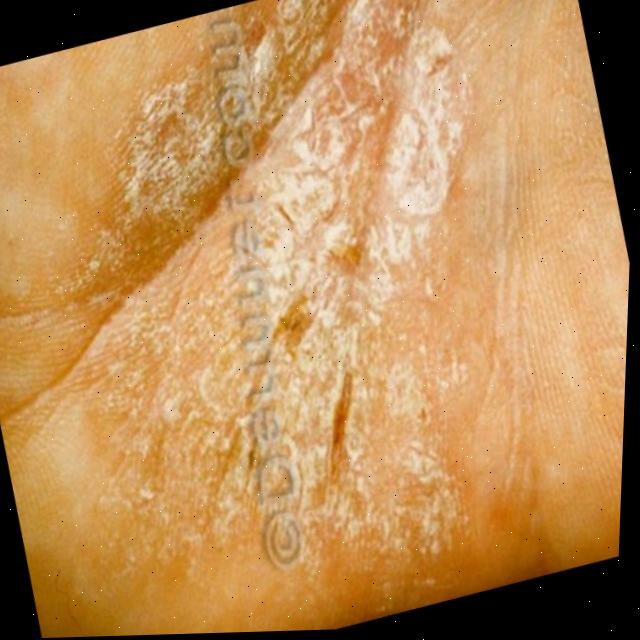Eczema: (49, 0, 542, 545)
